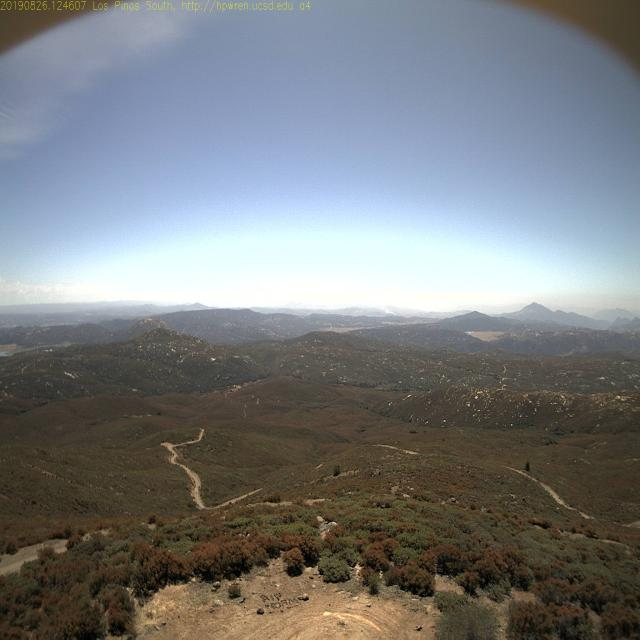smoke: (382, 305, 398, 318)
